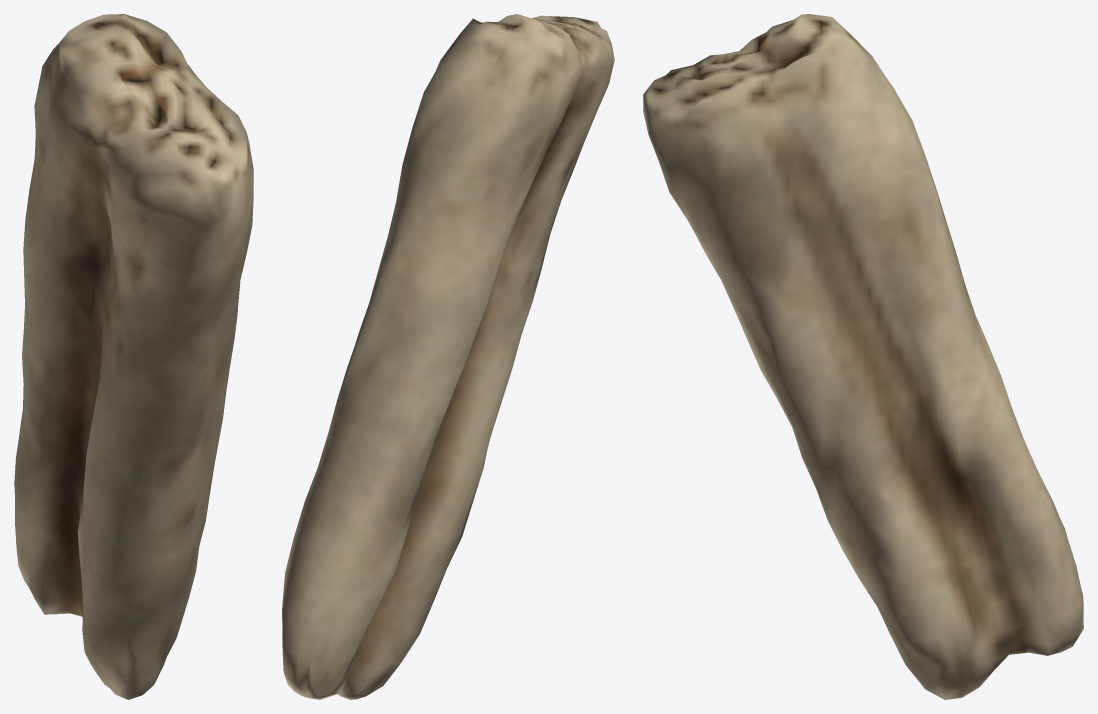
Rendered from Mandibular_Molar.glb.
The picture shows the model from 3 angles, left to right: view 1: azimuth 30°, elevation 25°; view 2: azimuth 150°, elevation 25°; view 3: azimuth 270°, elevation 25°; orthographic projection. The views are drawn at different scales.
Visible parts, largest first — view 1: Group23137_Mesh.054; view 2: Group23137_Mesh.054; view 3: Group23137_Mesh.054.
Part boxes in pixels (x1,y1,x2,y2): Group23137_Mesh.054: (14,14,253,699); Group23137_Mesh.054: (282,14,614,699); Group23137_Mesh.054: (643,14,1083,699).
Bounding box in the file's own units: 0.0213 × 0.0741 × 0.0467.
1 material, 1 textured.
